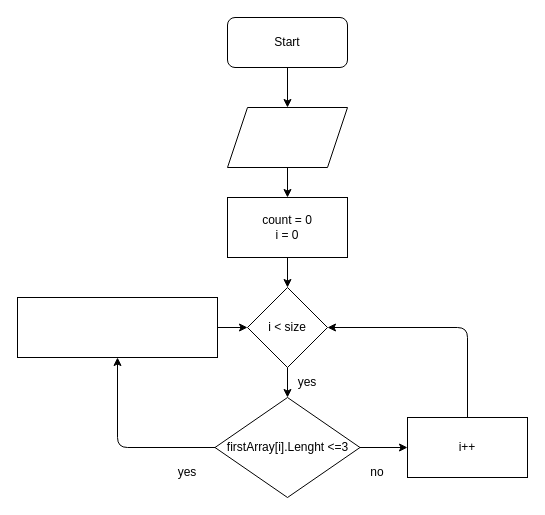
The diagram is 545 pixels wide and 515 high, and some of its shapes have lost their labels. The centre of each missing label's shape, as x and y in pixels:
"firstArray[size] secondArray[ ]" belongs at [287,137].
"secondArray[count] = firstArray[i] count++" belongs at [117,327].
